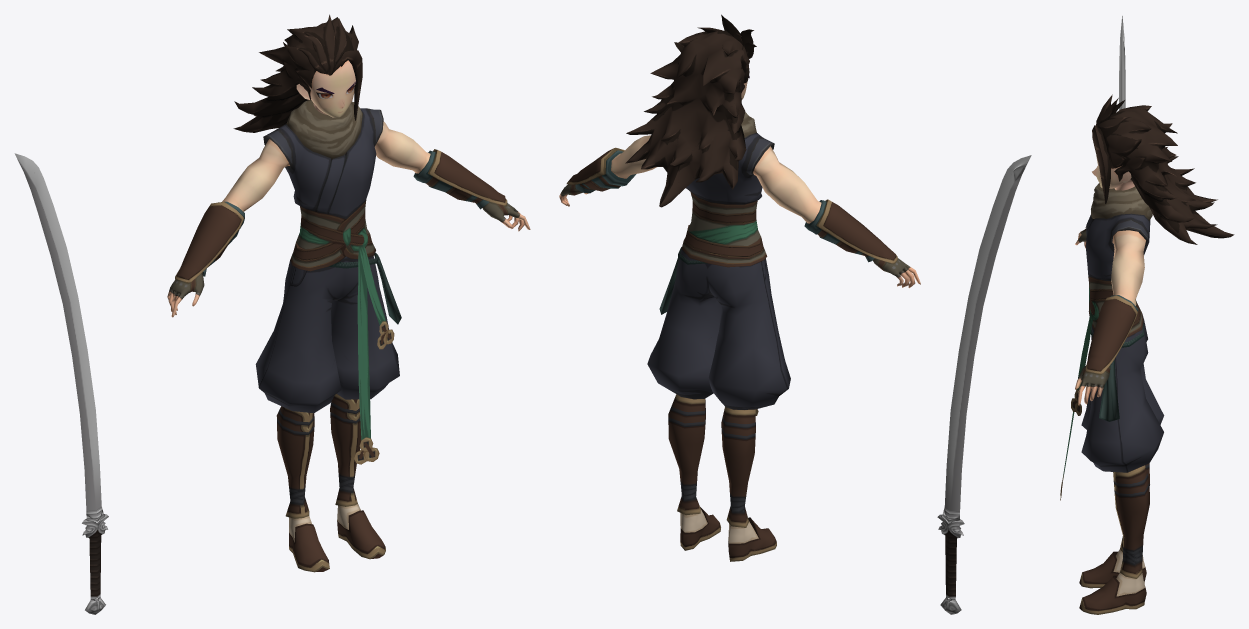
The model's file is h_002_teng_yi_t1_view.fbx.
The picture shows the model from 3 angles, left to right: view 1: azimuth 30°, elevation 25°; view 2: azimuth 150°, elevation 25°; view 3: azimuth 270°, elevation 25°; orthographic projection. The views are drawn at different scales.
Parts seen in each view (by area): view 1: h_002_teng_yi_t1; view 2: h_002_teng_yi_t1; view 3: h_002_teng_yi_t1.
Part boxes in pixels (x1,y1,x2,y2): h_002_teng_yi_t1: [14, 14, 530, 614]; h_002_teng_yi_t1: [559, 14, 1031, 614]; h_002_teng_yi_t1: [1060, 16, 1234, 614].
Size of the model in its own units: 223 by 236 by 73.35.
